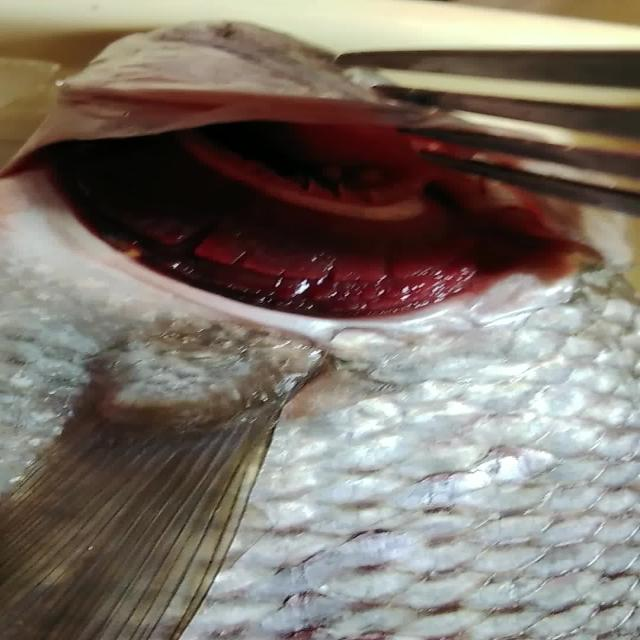Fresh: (61, 98, 557, 364)
